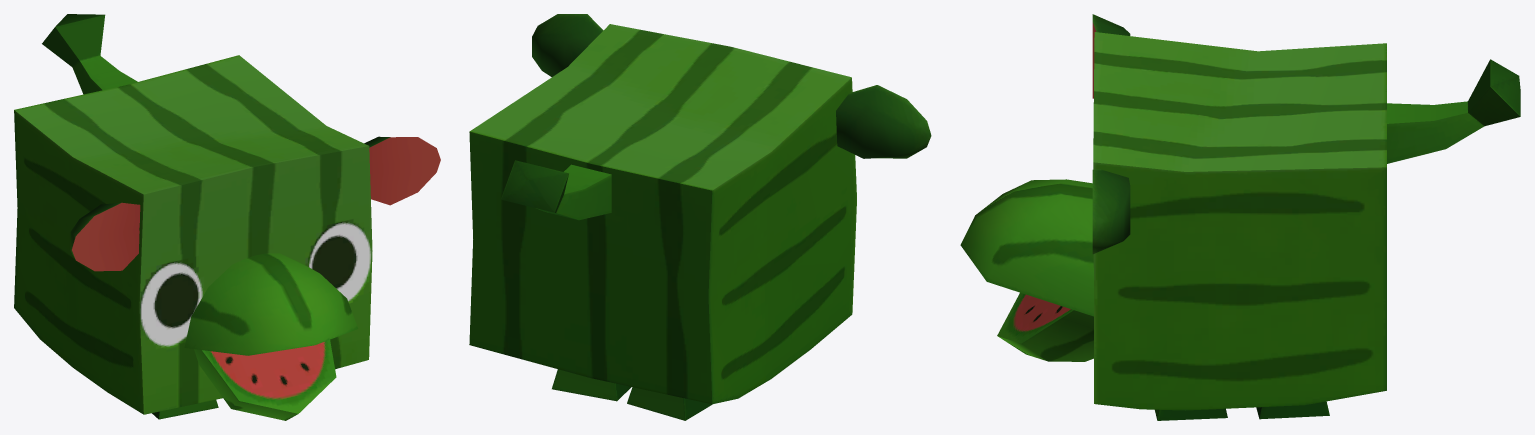
The model's file is pets_68.fbx.
3 renders of one model, left to right at view 1: azimuth 30°, elevation 25°; view 2: azimuth 150°, elevation 25°; view 3: azimuth 270°, elevation 25°, orthographic. The views are drawn at different scales.
Visible parts, largest first — view 1: Pet.076; view 2: Pet.076; view 3: Pet.076.
Part boxes in pixels (left/top/right/bottom): Pet.076: left=14, top=14, right=440, bottom=420; Pet.076: left=469, top=14, right=931, bottom=420; Pet.076: left=960, top=14, right=1520, bottom=420.
Size of the model in its own units: 0.6055 by 0.7049 by 0.4285.
